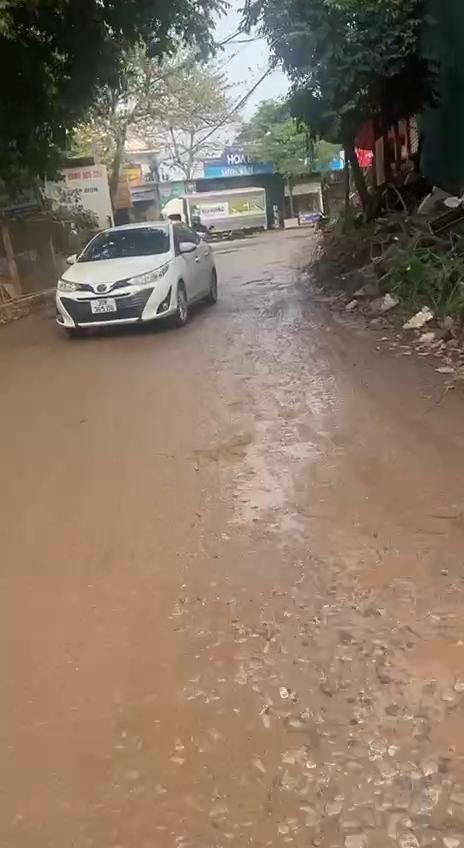pothole: (314, 583, 464, 848)
